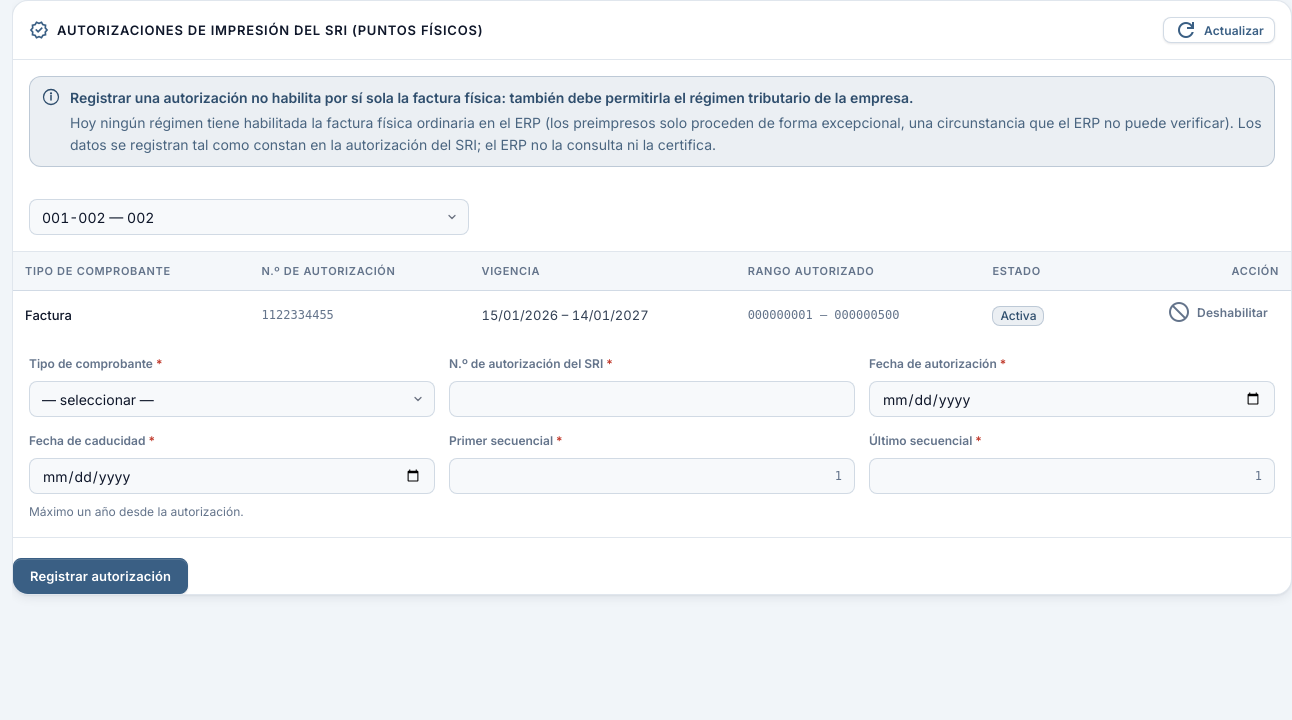
Test: PhysicalDocumentAuthorizationsSection › no envía una vigencia mayor a un año ni un rango invertido
Expected: the text "1122334455" is shown, left=262, top=308, right=334, bottom=322
Select "01 — Factura" in the dropdown labelled "Tipo de comprobante*" at (232, 399), box left=29, top=381, right=435, bottom=417
Type "9988776655" into the field labelled "N.º de autorización del SRI*".
click(652, 399); type("9988776655")  # box left=449, top=381, right=855, bottom=417
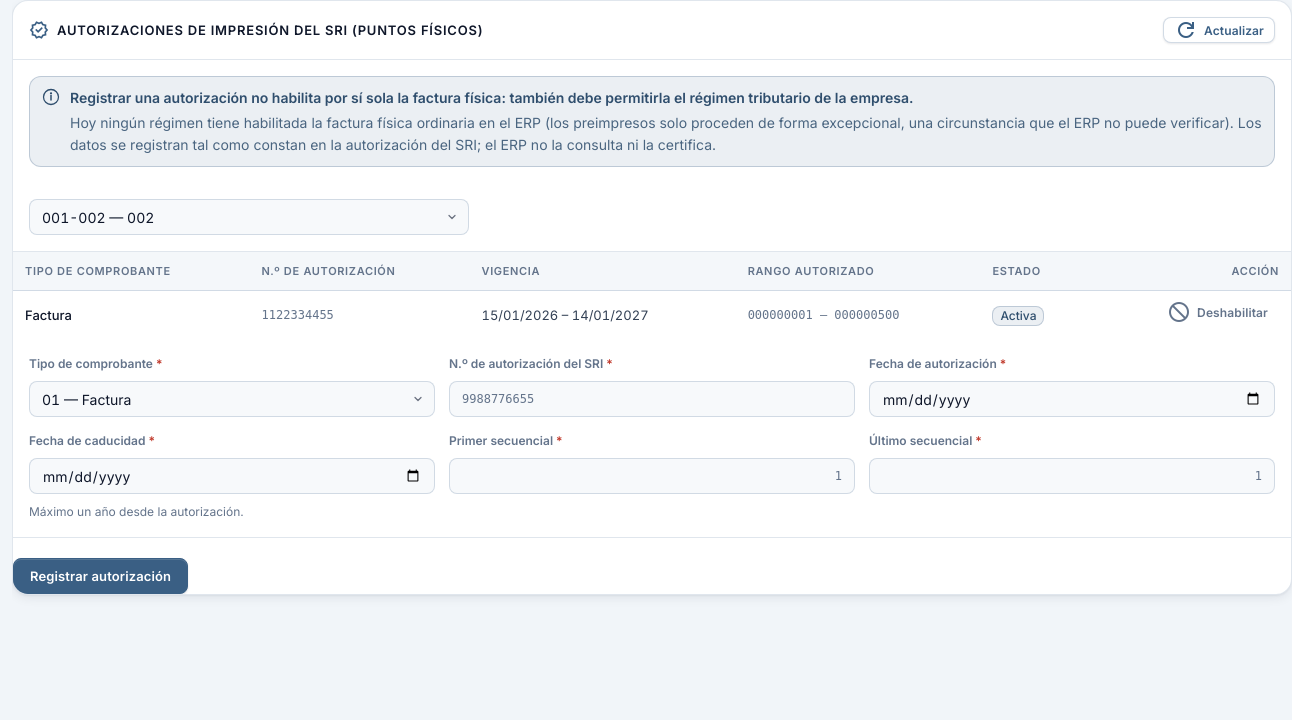
Type "2027-01-15" into the date field labelled "Fecha de autorización*".
click(1072, 399); type("2027-01-15")  # box left=869, top=381, right=1275, bottom=417
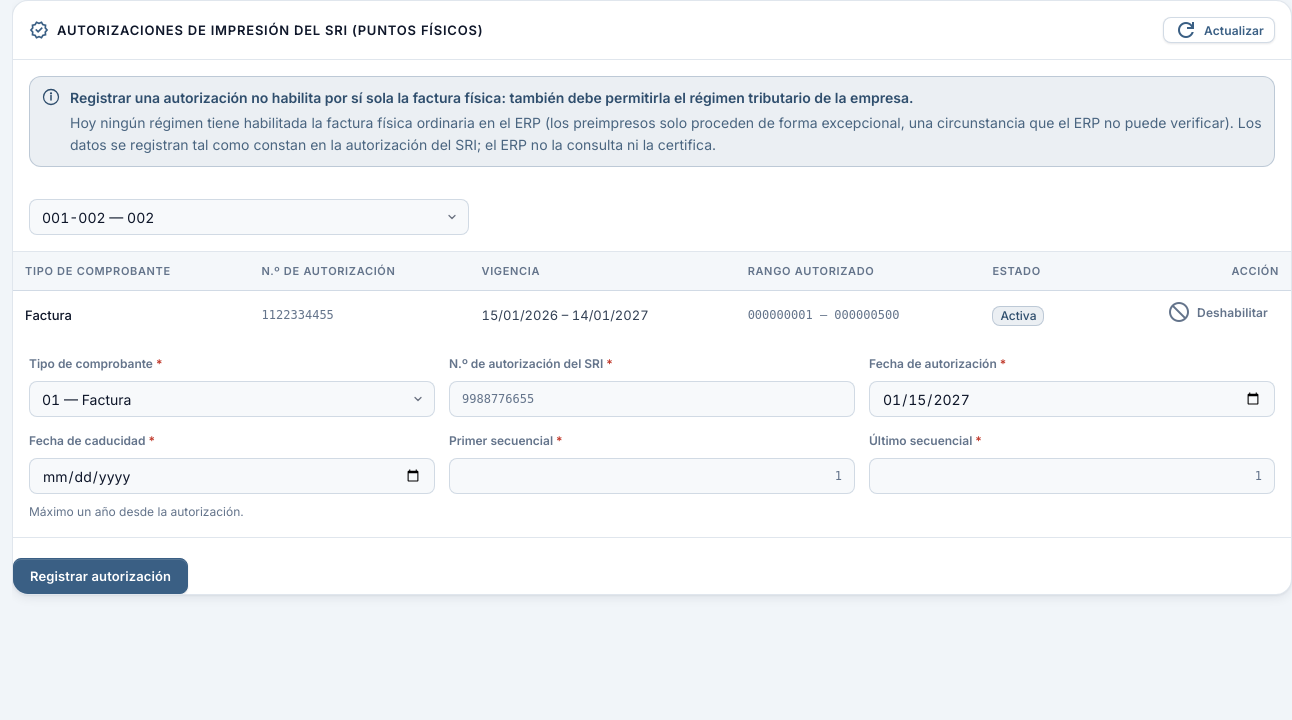
Type "2028-01-16" into the date field labelled "Fecha de caducidad* Máximo un año desde la autorización.".
click(232, 476); type("2028-01-16")  # box left=29, top=458, right=435, bottom=494
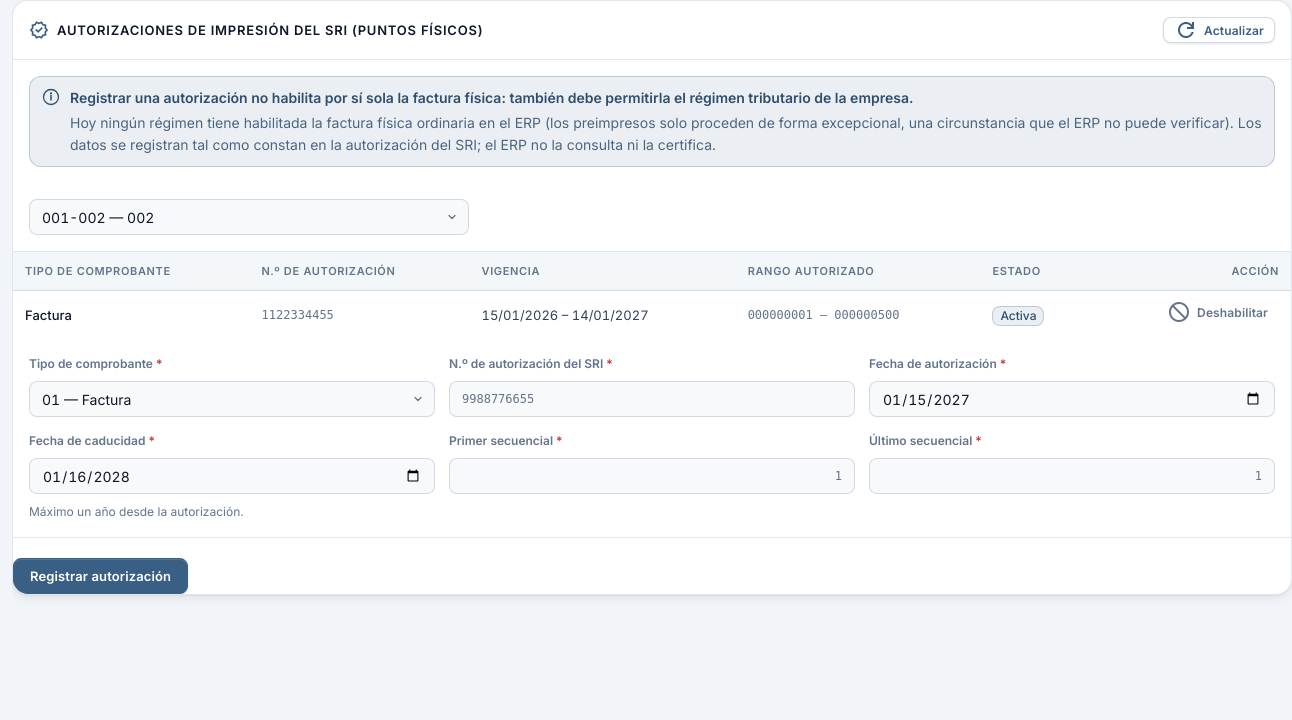
Replace the text in the field labelled "Primer secuencial*" with "10" at (652, 476), box left=449, top=458, right=855, bottom=494
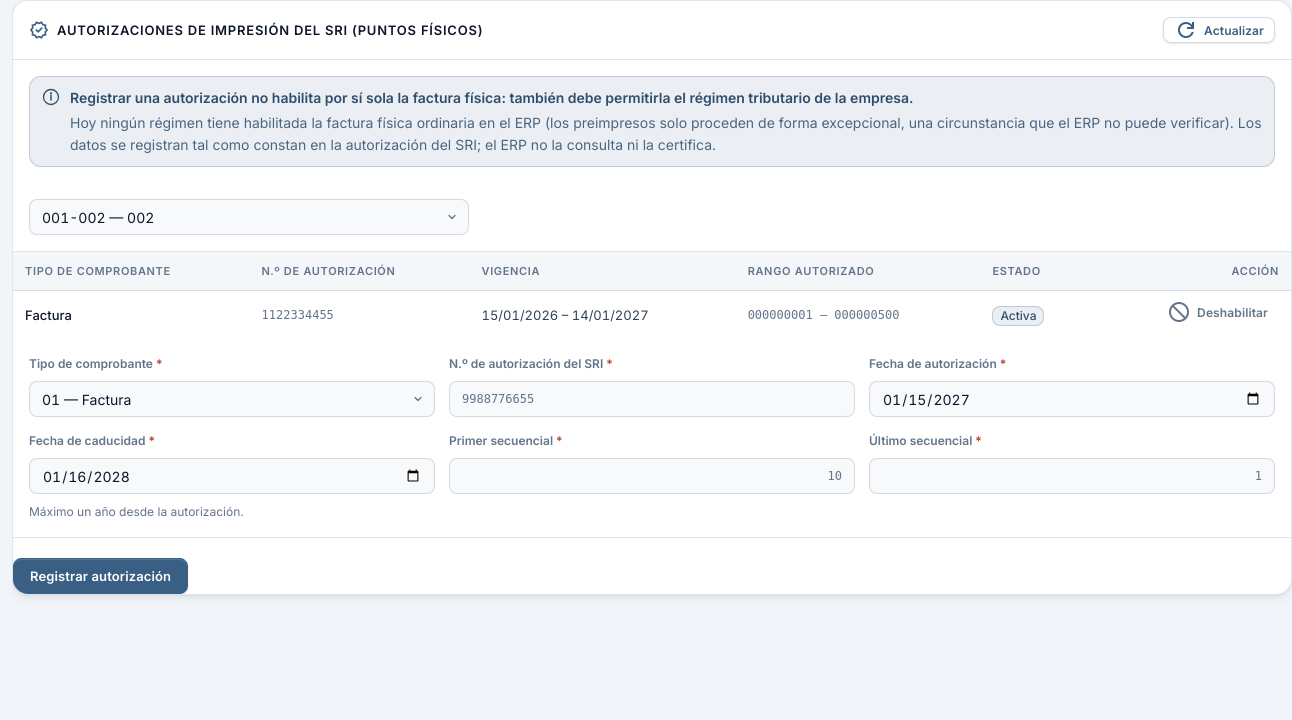
Replace the text in the field labelled "Último secuencial*" with "5" at (1072, 476), box left=869, top=458, right=1275, bottom=494
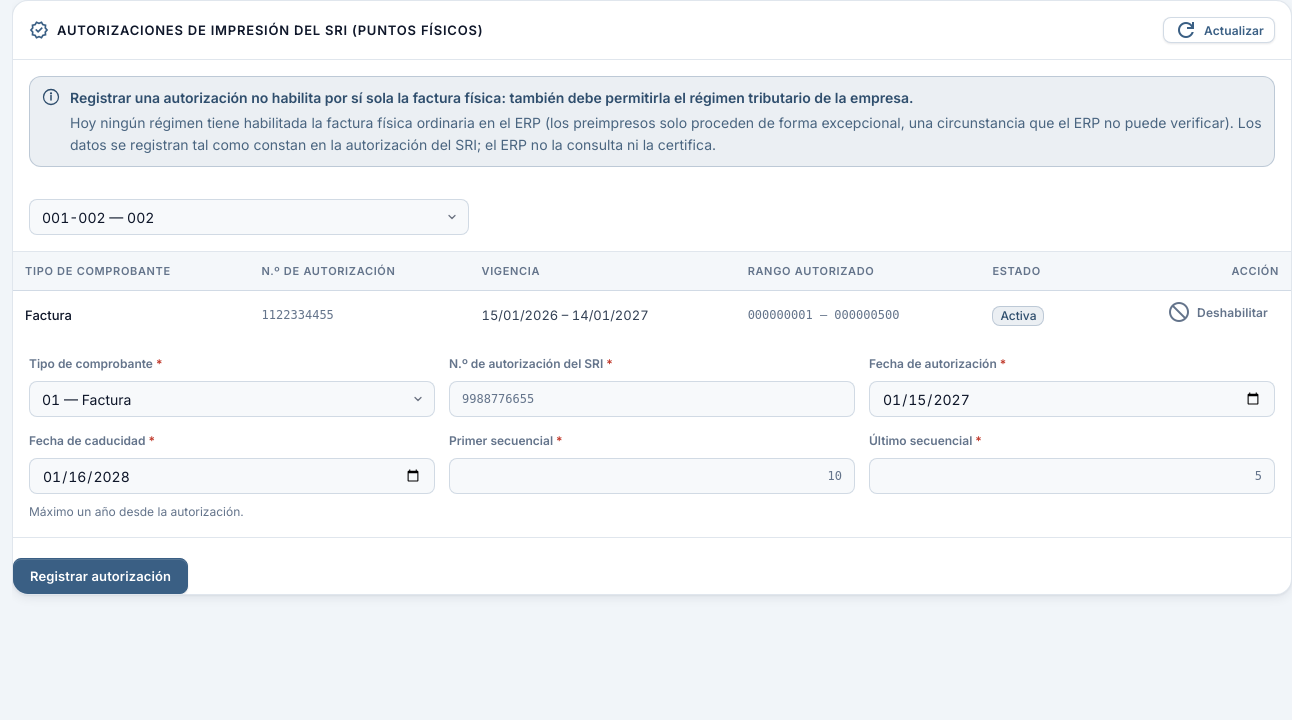
Click the button "Registrar autorización".
click(101, 576)  # box left=13, top=558, right=188, bottom=594
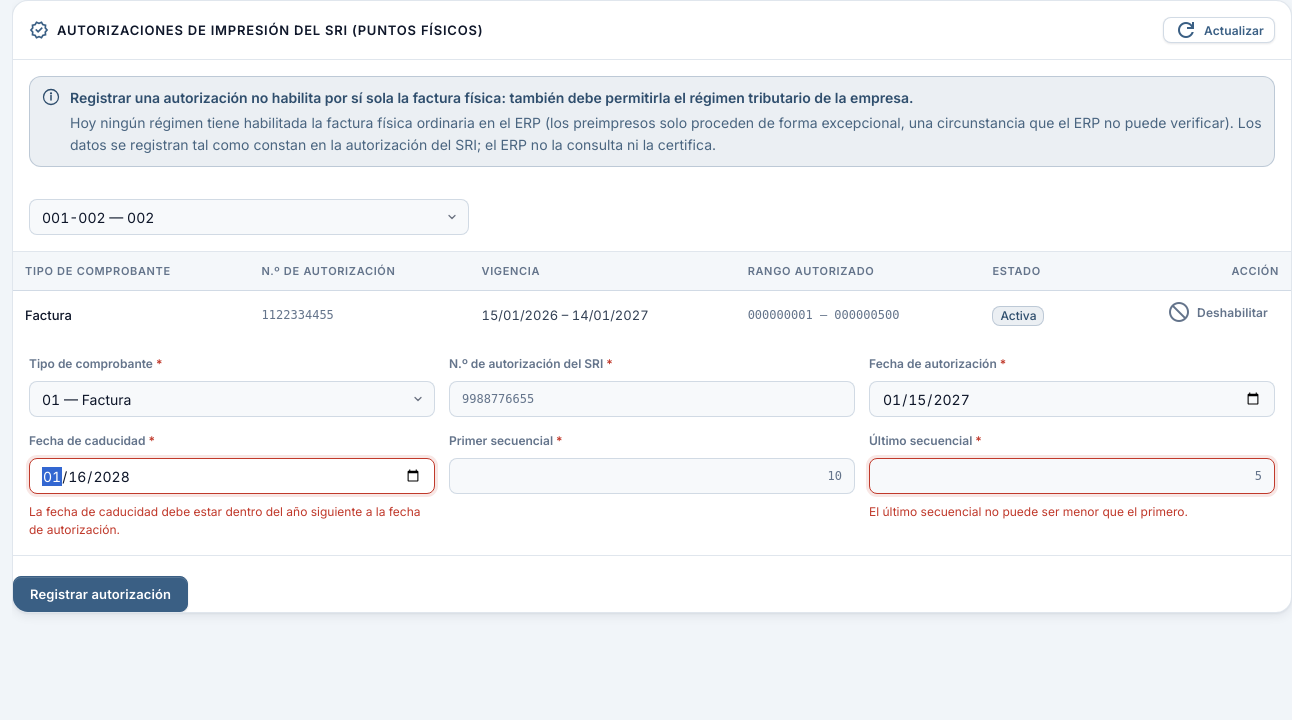
Result: the text "dentro del año siguiente" is shown at left=29, top=504, right=420, bottom=537
Result: the text "El último secuencial no puede ser menor que el primero." is shown at left=869, top=504, right=1188, bottom=519
